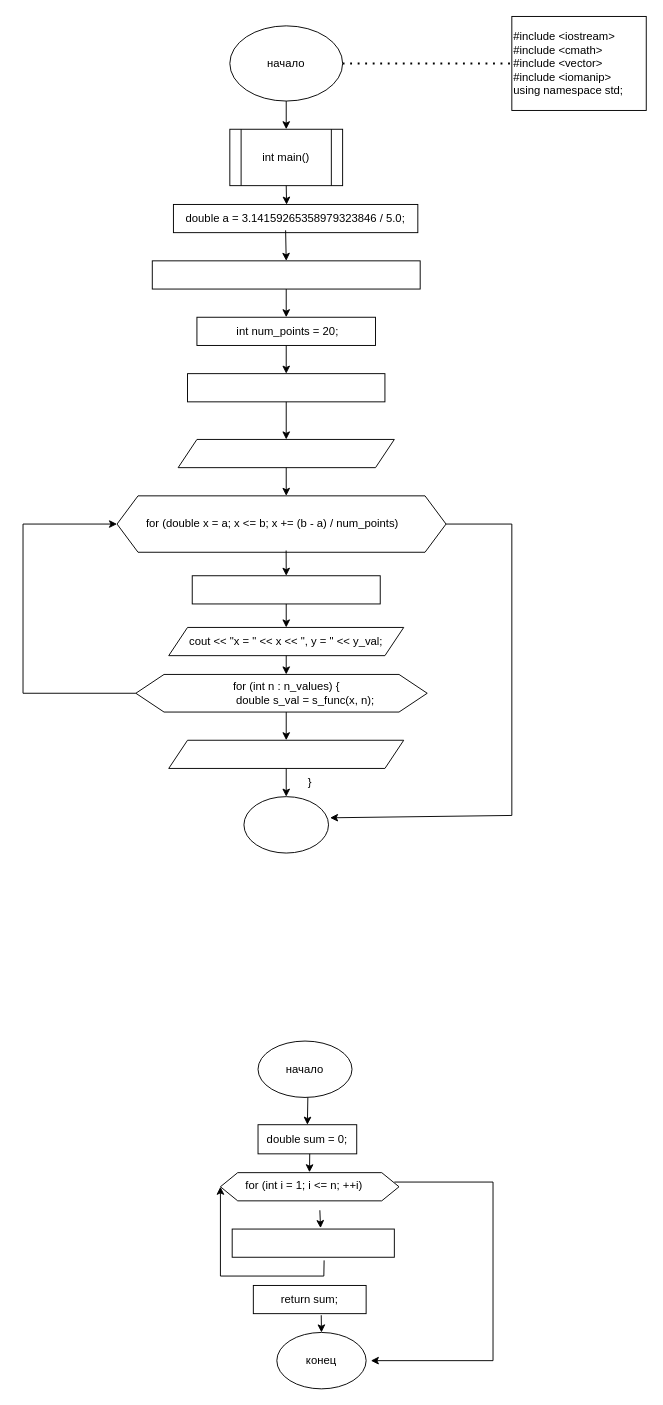
This 663x1405 diagram has some shape labels left out. Here are the shapes that lost their labels. From the top down, the centre of each, then its label:
pixel 285 274: double b = 9.0 * 3.14159265358979323846 / 5.0;
pixel 286 387: vector<int> n_values = { 10, 20, 30 };
pixel 285 453: cout << fixed << setprecision(6);
pixel 285 589: double y_val = y_func(x);
pixel 286 753: cout << ", S(" << n << ") = " << s_val;
pixel 286 824: return 0;
pixel 312 1242: sum += cos(i * x) / (double)i;
